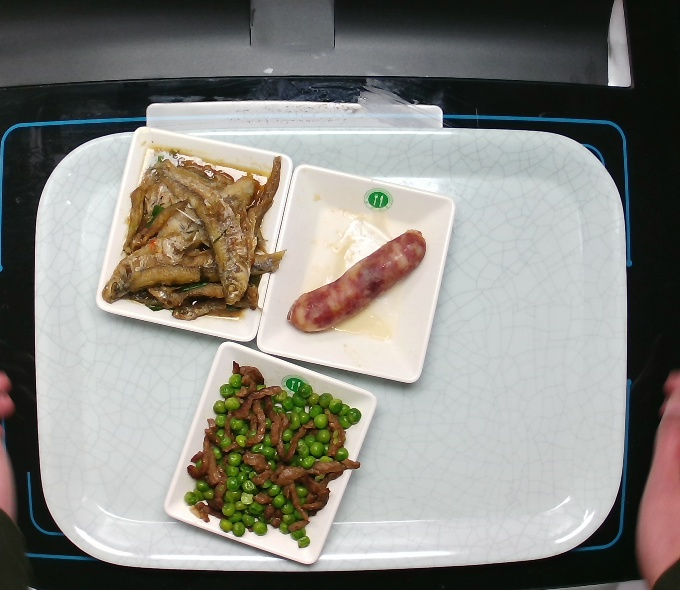wcq-CanDouNiuRou: (183, 360, 364, 548)
wcq-XiangChang: (282, 227, 426, 334)
wcq-XiaoJiYu: (100, 149, 284, 319)
